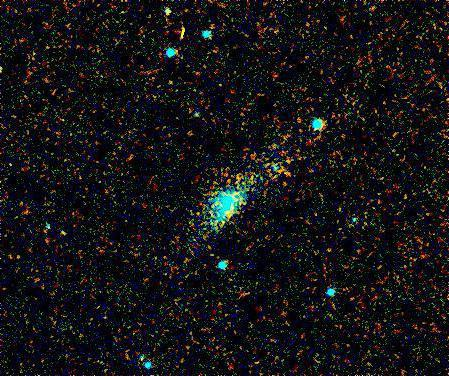star: (184, 200, 214, 230)
